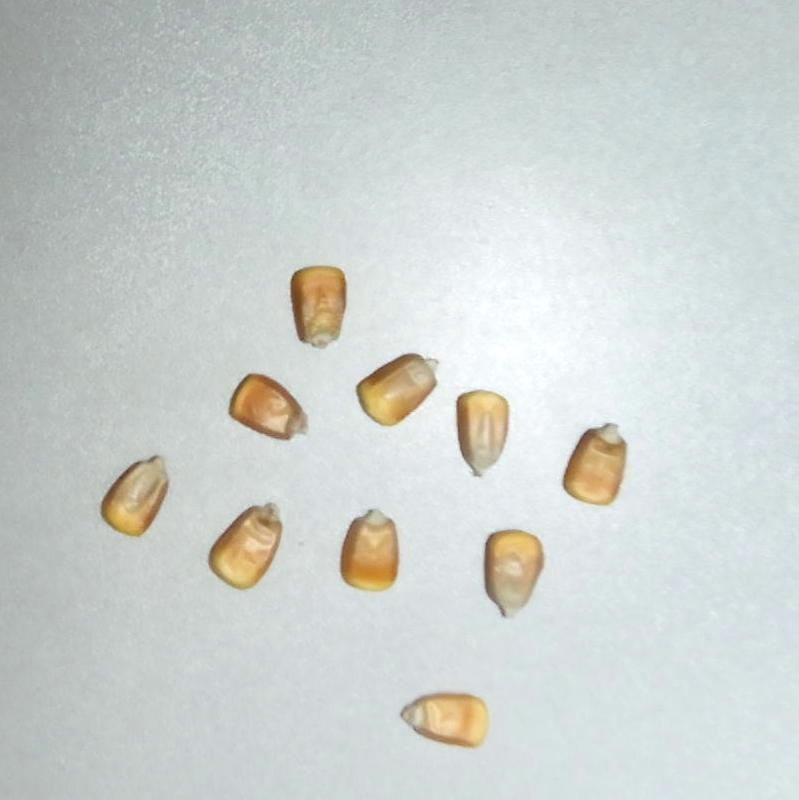corn: (200, 491, 303, 598), (349, 336, 453, 435), (93, 441, 185, 544), (223, 366, 322, 457), (558, 413, 643, 513), (397, 682, 494, 751), (485, 529, 544, 619), (291, 265, 348, 350), (341, 509, 399, 591), (457, 389, 511, 477)
